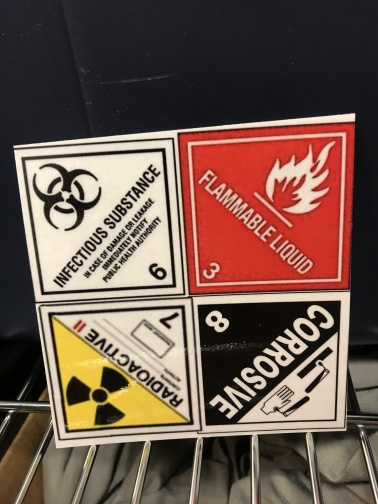Corrosive: (191, 293, 345, 428)
FlammableLiquid: (178, 121, 353, 294)
InfectiousSubstance: (14, 140, 184, 301)
Radioactive: (36, 297, 201, 438)
